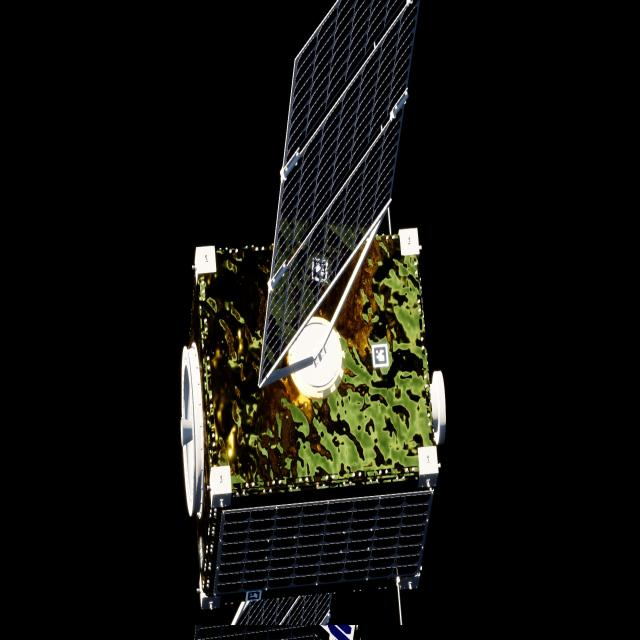medium_debris: (180, 0, 446, 588)
